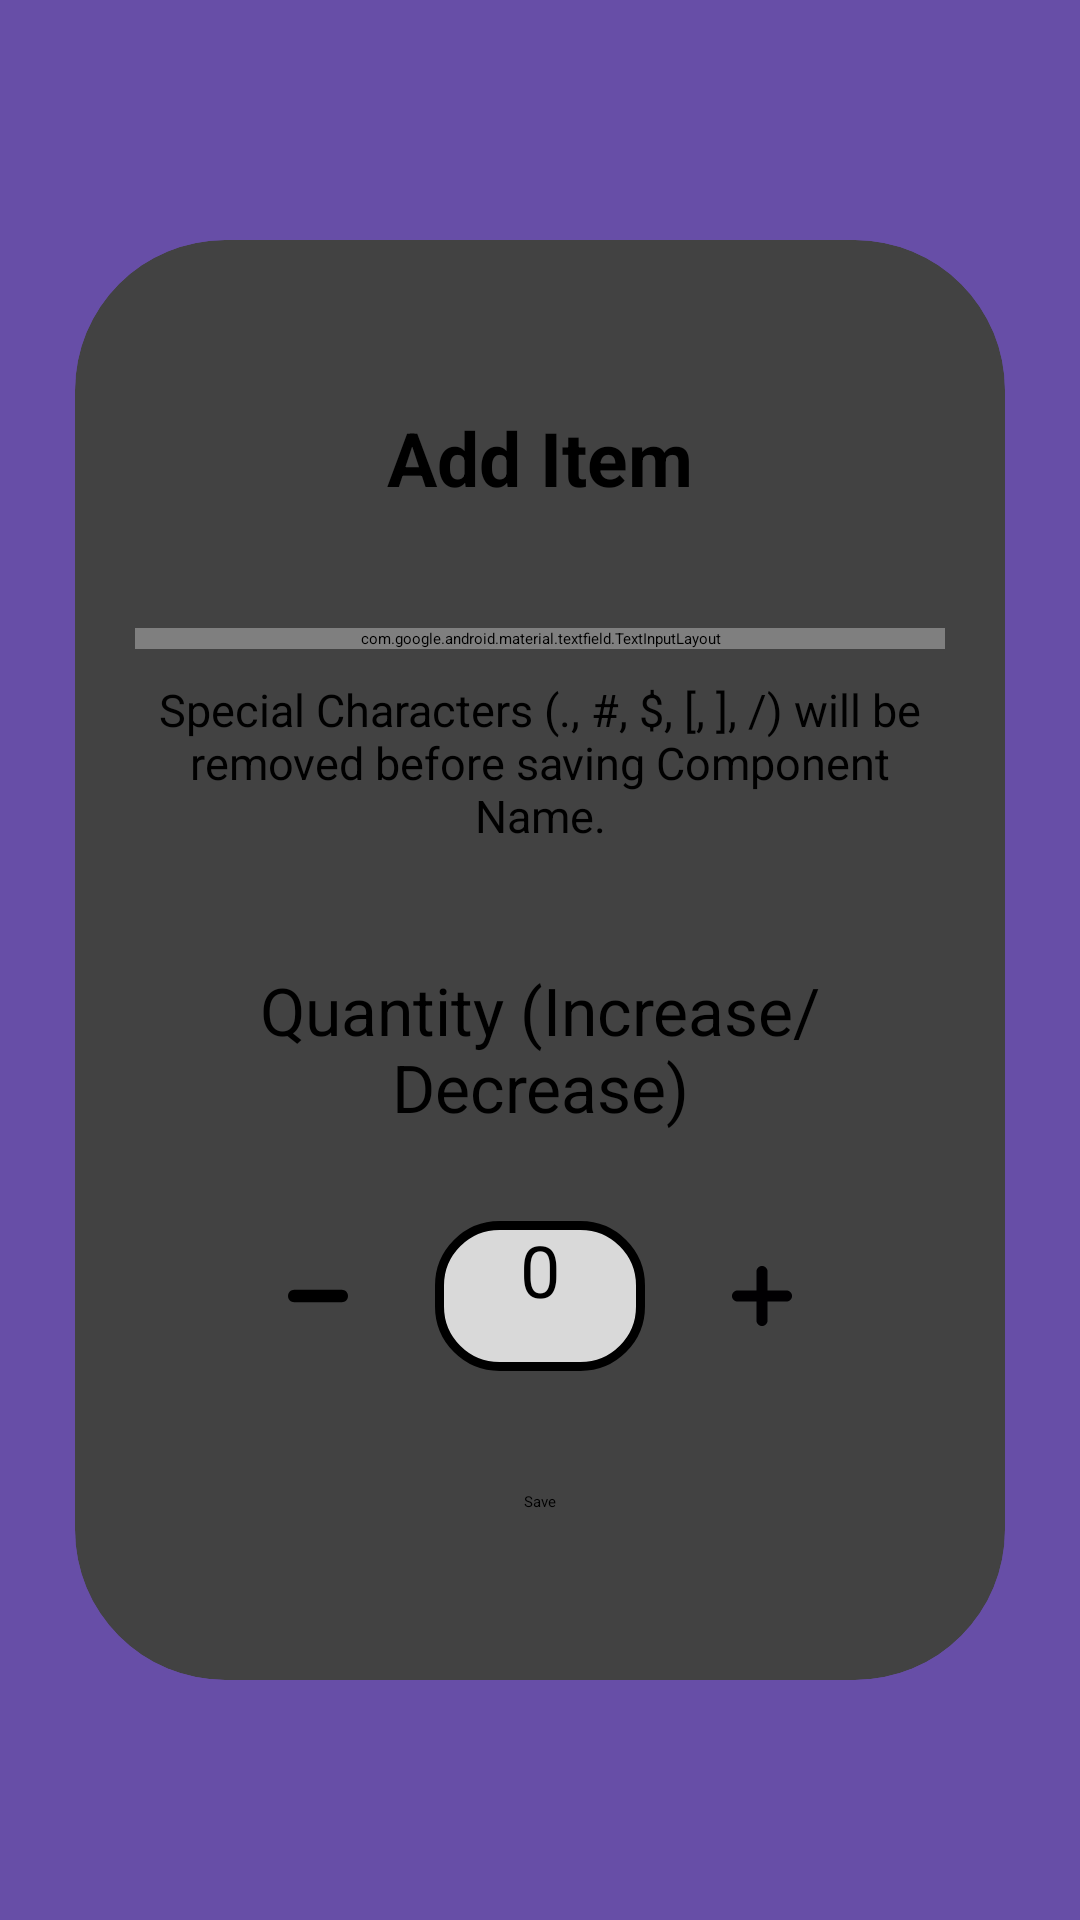

Screen size 1080x1920. Icon name, then its box in pixels as (x1, y1, x2, y2):
add symbol: (732, 1266, 792, 1326)
minus symbol: (288, 1290, 348, 1302)
